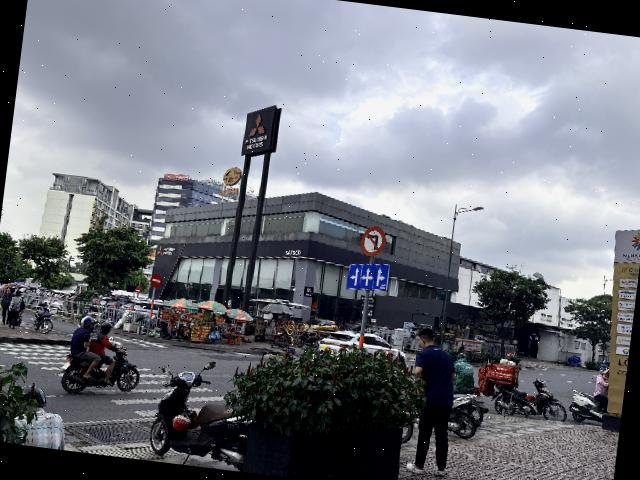cam-di-nguoc-chieu: (149, 274, 162, 289)
cam-re-trai: (358, 224, 386, 258)
